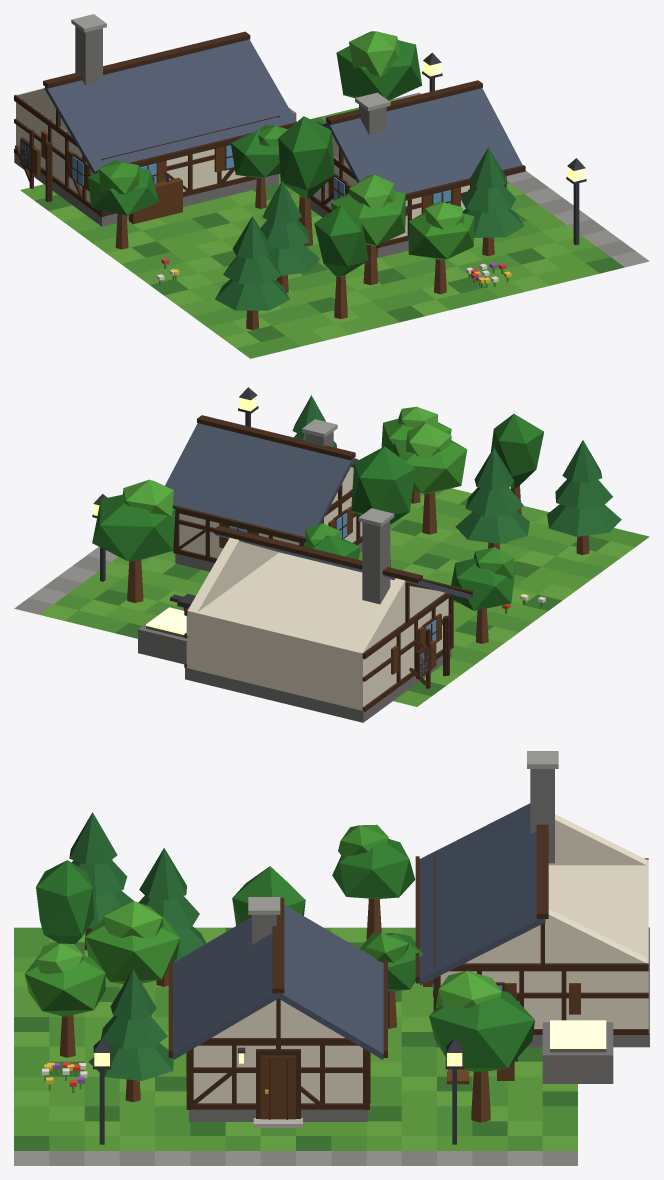
Rendered from chunk_1_3.glb.
3 renders of one model, top to bottom at view 1: azimuth 30°, elevation 25°; view 2: azimuth 150°, elevation 25°; view 3: azimuth 270°, elevation 25°, orthographic. The views are drawn at different scales.
Parts seen in each view (by area): view 1: chunk_1_3; view 2: chunk_1_3; view 3: chunk_1_3.
Boxes of the visible parts, bbox=[...] form: chunk_1_3: bbox=[14, 14, 649, 358]; chunk_1_3: bbox=[14, 387, 649, 722]; chunk_1_3: bbox=[14, 751, 649, 1165].
Size of the model in its own units: 16.44 by 6.34 by 18.04.
